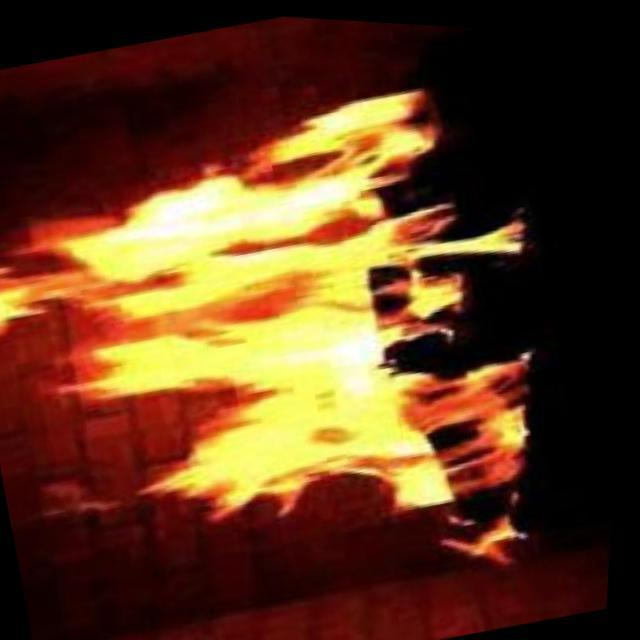fire: (0, 112, 524, 588)
